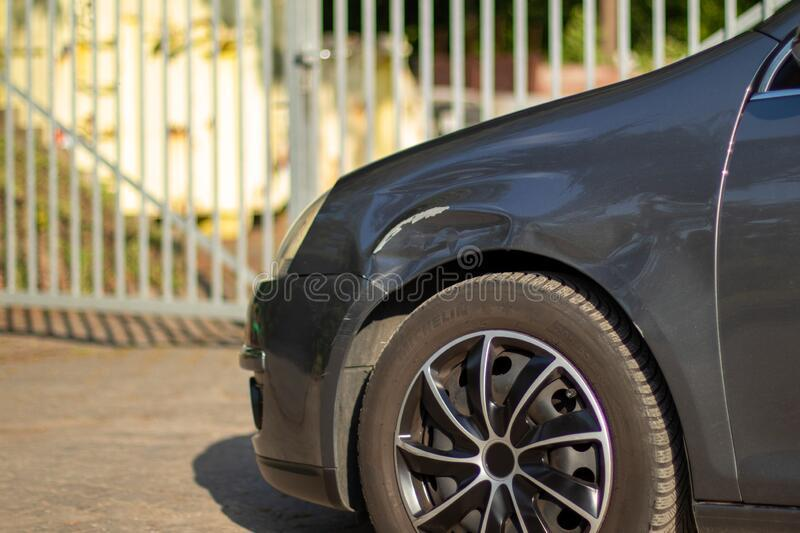fender-dent: (330, 131, 717, 339)
